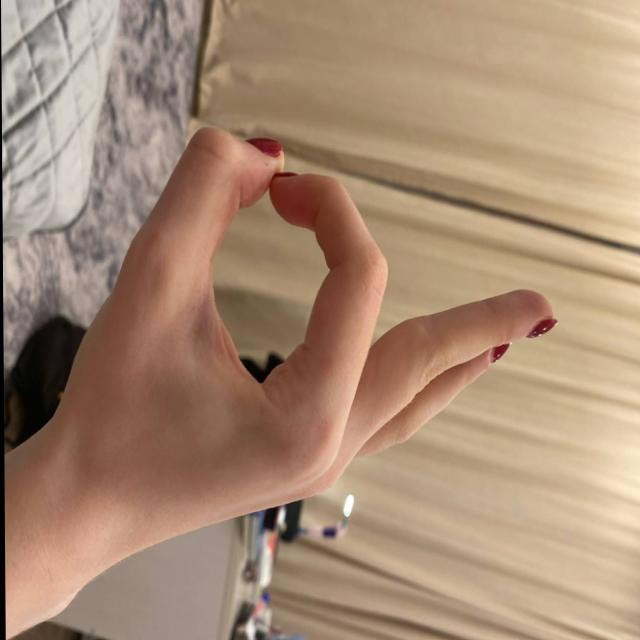o: (89, 142, 571, 498)
